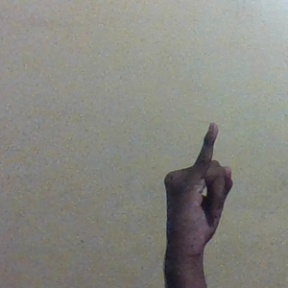I: (162, 120, 235, 243)
